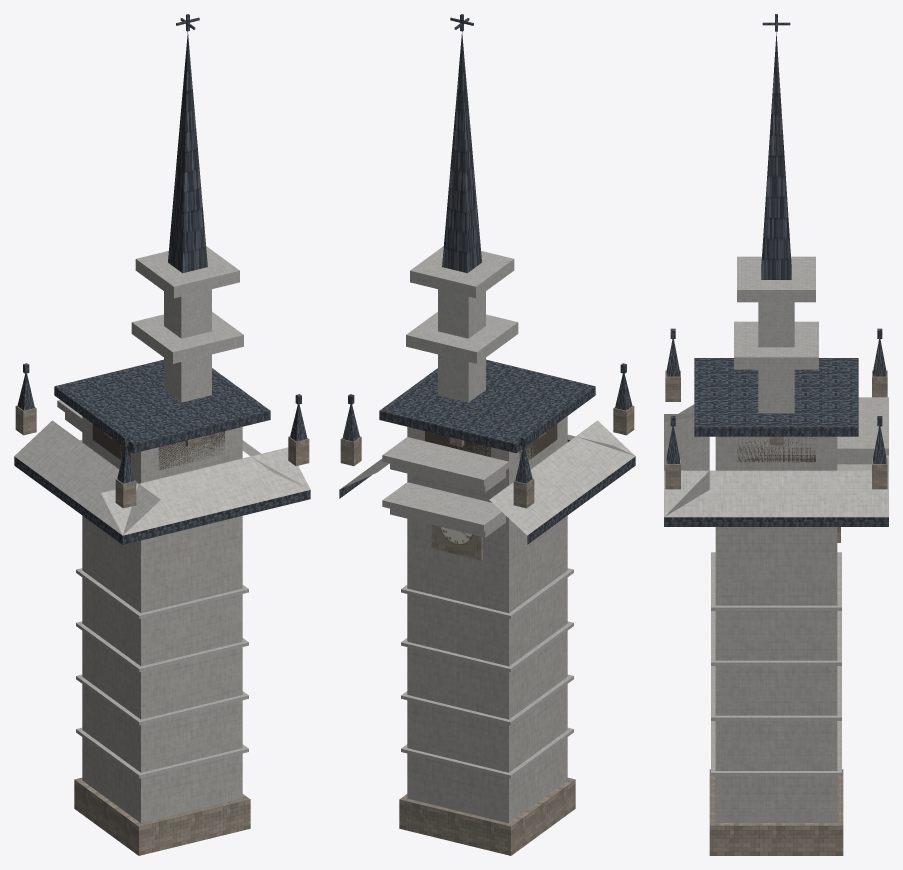
Rendered from steeple-meetinghouse-climbable.glb.
3 renders of one model, left to right at view 1: azimuth 30°, elevation 25°; view 2: azimuth 150°, elevation 25°; view 3: azimuth 270°, elevation 25°, orthographic. The views are drawn at different scales.
Visible parts, largest first — view 1: steeple-meetinghouse-climbable; view 2: steeple-meetinghouse-climbable; view 3: steeple-meetinghouse-climbable.
Boxes of the visible parts, x1,y1,x2,y2 form: steeple-meetinghouse-climbable: (14, 14, 310, 855); steeple-meetinghouse-climbable: (339, 14, 635, 855); steeple-meetinghouse-climbable: (664, 14, 888, 855).
Bounding box in the file's own units: 7.4 × 30 × 7.4.
6 materials, 6 textured.
